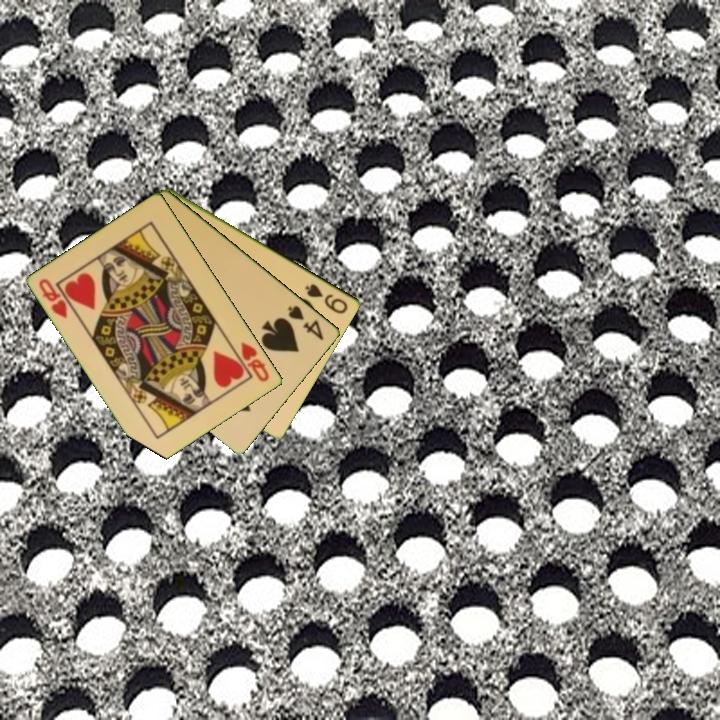4s: (284, 302, 327, 343)
9s: (302, 280, 351, 317)
Qh: (229, 338, 272, 385), (35, 275, 71, 321)
